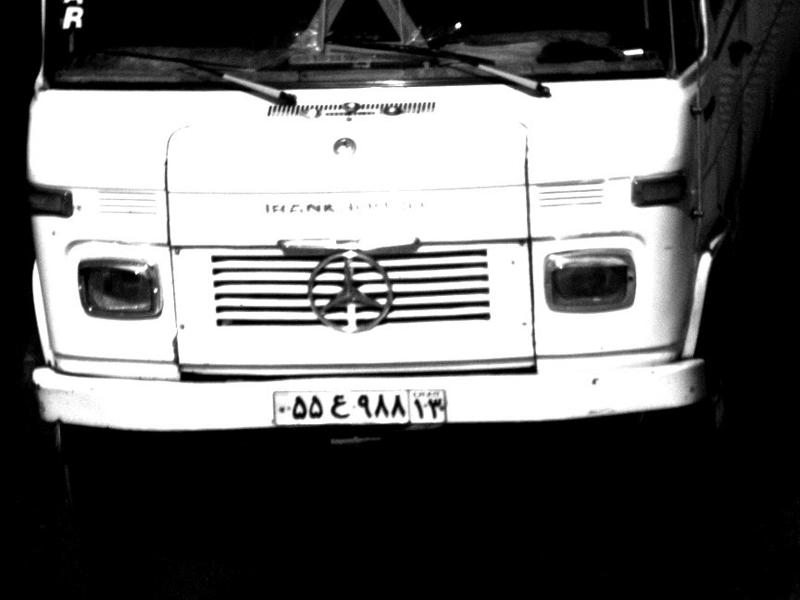Plate: (271, 386, 450, 423)
